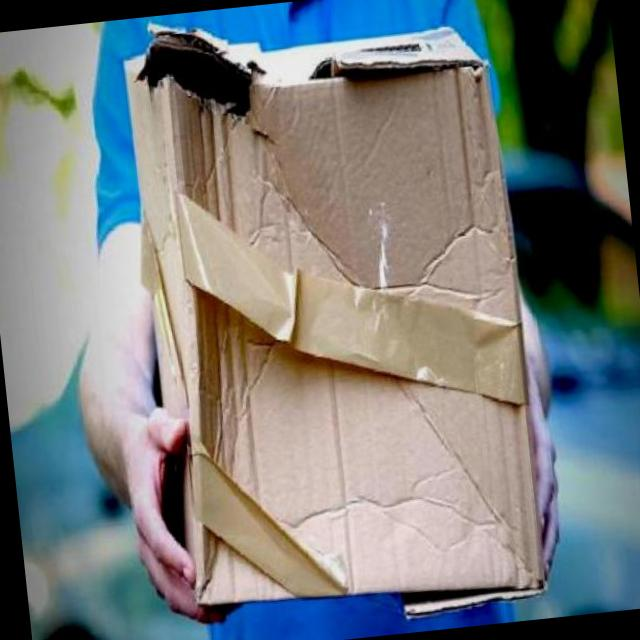box: (46, 114, 565, 512)
